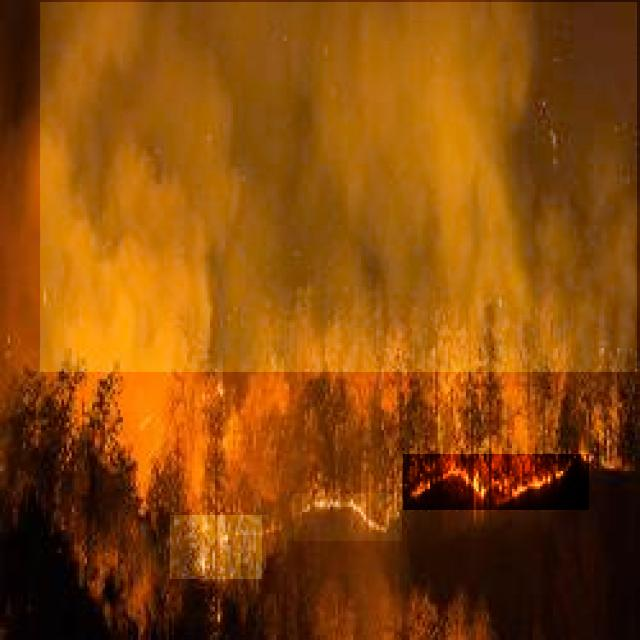Fire: (403, 454, 589, 510), (170, 515, 262, 579), (294, 493, 402, 541)
Smoke: (40, 2, 637, 372)
